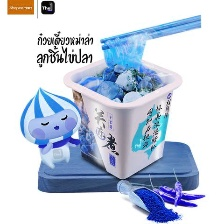paper_cup: (56, 51, 187, 182)
